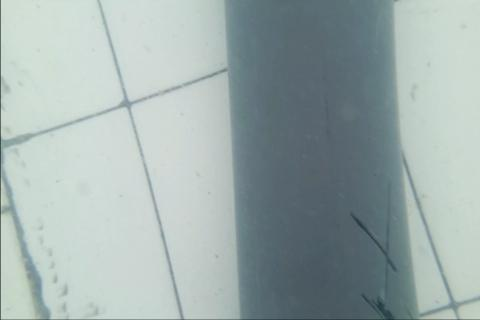keretakan: (347, 180, 415, 319)
